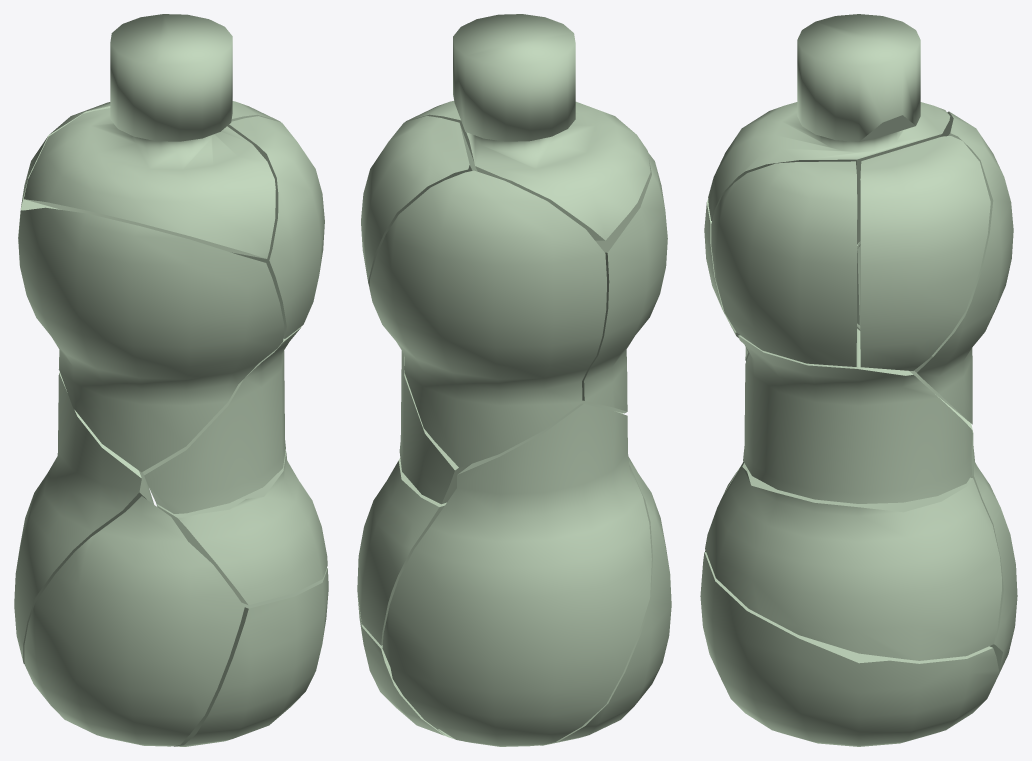
File: Bolet_Destroyed.fbx
The picture shows the model from 3 angles, left to right: view 1: azimuth 30°, elevation 25°; view 2: azimuth 150°, elevation 25°; view 3: azimuth 270°, elevation 25°; orthographic projection.
Parts seen in each view (by area): view 1: Line001_cell.001, Line001_cell.003, Line001_cell.002, Line001_cell, Line001_cell.006, Line001_cell.004, Line001_cell.009, Line001_cell.007, Line001_cell.008; view 2: Line001_cell, Line001_cell.008, Line001_cell.003, Line001_cell.001, Line001_cell.010, Line001_cell.006, Line001_cell.002, Line001_cell.009, Line001_cell.004, Line001_cell.007; view 3: Line001_cell.006, Line001_cell.009, Line001_cell.004, Line001_cell.007, Line001_cell.010, Line001_cell.003, Line001_cell.008, Line001_cell, Line001_cell.001.
Part boxes in pixels (x1,y1,x2,y2): Line001_cell.001: (18,207,284,472); Line001_cell.003: (24,14,275,258); Line001_cell.002: (24,496,244,746); Line001_cell: (14,372,153,663); Line001_cell.006: (156,451,327,605); Line001_cell.004: (173,568,328,746); Line001_cell.009: (143,326,301,513); Line001_cell.007: (227,116,324,338); Line001_cell.008: (18,102,110,369); Line001_cell: (382,403,651,746); Line001_cell.008: (369,170,606,467); Line001_cell.003: (453,14,650,240); Line001_cell.001: (581,152,667,413); Line001_cell.010: (361,116,477,286); Line001_cell.006: (357,458,446,645); Line001_cell.002: (540,456,671,745); Line001_cell.009: (399,350,622,504); Line001_cell.004: (357,595,465,741); Line001_cell.007: (405,101,473,160); Line001_cell.006: (705,461,1001,660); Line001_cell.009: (738,328,972,503); Line001_cell.004: (700,552,998,746); Line001_cell.007: (711,161,857,366); Line001_cell.010: (860,136,990,370); Line001_cell.003: (708,14,950,244); Line001_cell.008: (857,111,1013,424); Line001_cell: (935,394,1017,675); Line001_cell.001: (704,199,860,361).
Bounding box in the file's own units: 17.52 × 40.53 × 17.52.
